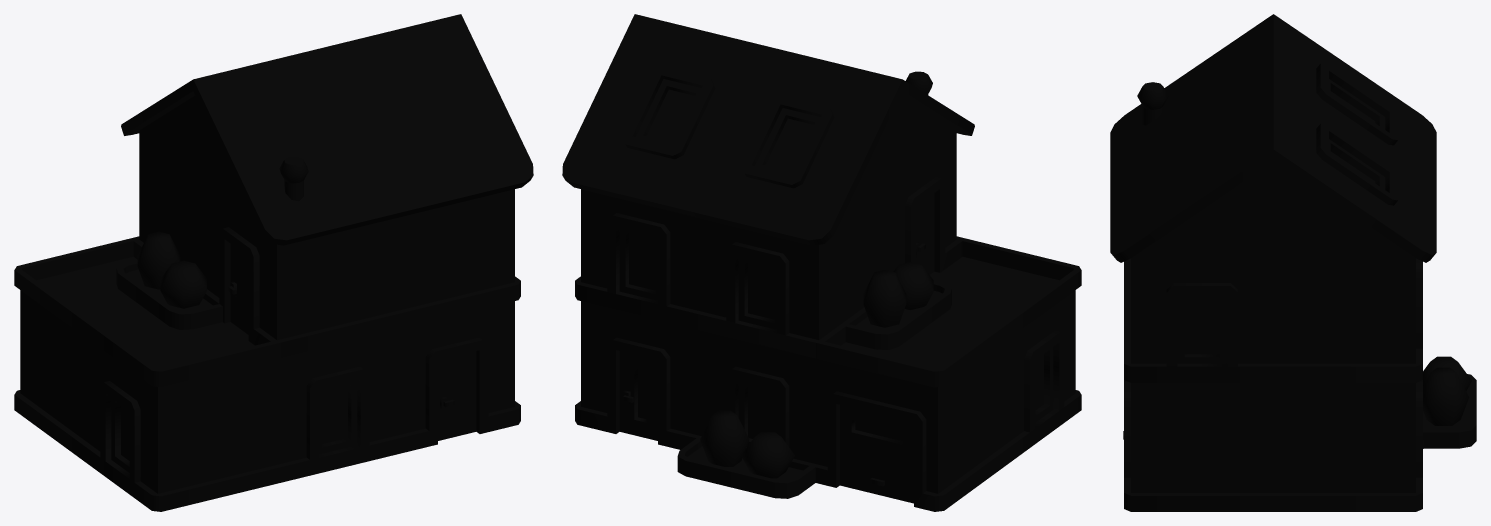
Rendered from building-type-o.glb.
3 renders of one model, left to right at view 1: azimuth 30°, elevation 25°; view 2: azimuth 150°, elevation 25°; view 3: azimuth 270°, elevation 25°, orthographic. The views are drawn at different scales.
Visible parts, largest first — view 1: building-type-o; view 2: building-type-o; view 3: building-type-o.
Part boxes in pixels (x1,y1,x2,y2): building-type-o: (14, 14, 533, 511); building-type-o: (562, 14, 1081, 511); building-type-o: (1110, 14, 1476, 511).
Bounding box in the file's own units: 1.27 × 1.14 × 1.03.
1 material, 1 textured.
